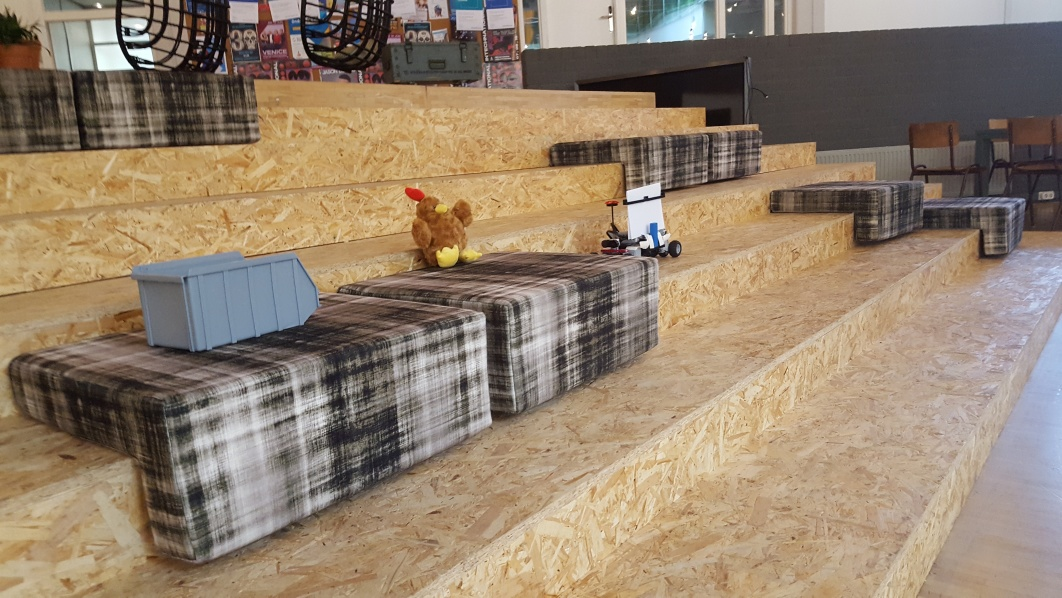beam: (647, 223, 661, 249)
chicken: (405, 187, 481, 267)
tray: (123, 253, 319, 352)
